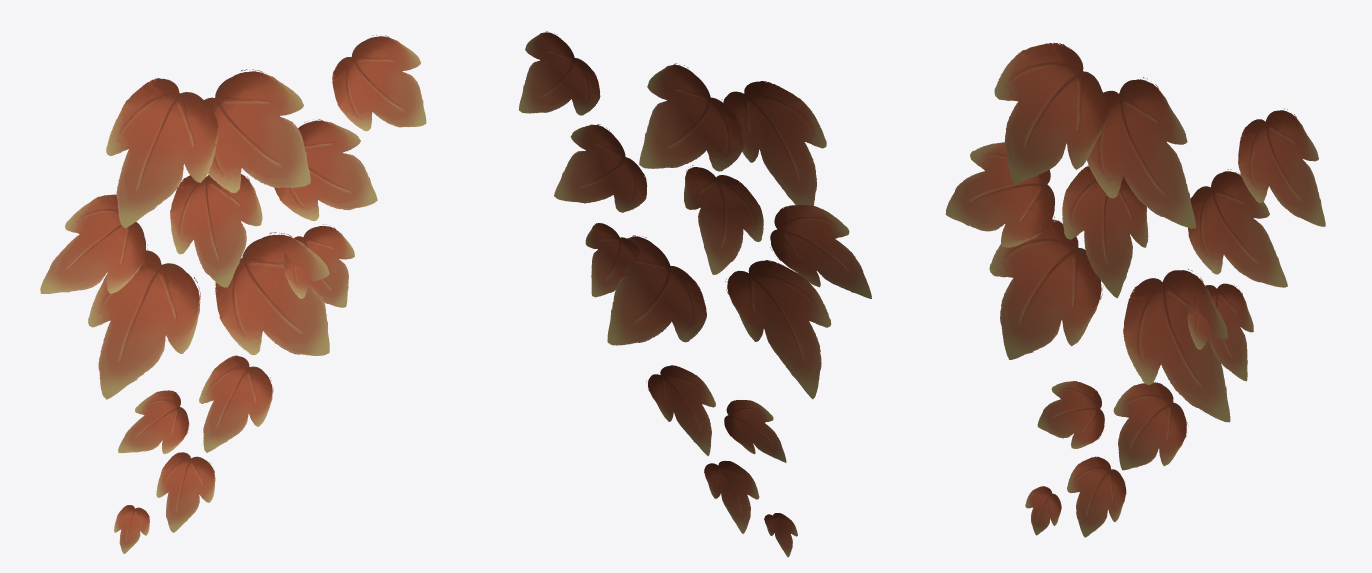
Rendered from Vines_02.FBX.
3 renders of one model, left to right at view 1: azimuth 30°, elevation 25°; view 2: azimuth 150°, elevation 25°; view 3: azimuth 330°, elevation 25°, orthographic. The views are drawn at different scales.
Visible parts, largest first — view 1: Plane031; view 2: Plane031; view 3: Plane031.
Part boxes in pixels (x1,y1,x2,y2): Plane031: (40, 35, 426, 553); Plane031: (519, 31, 871, 557); Plane031: (945, 43, 1325, 537).
Bounding box in the file's own units: 12.21 × 1.35 × 13.63.
